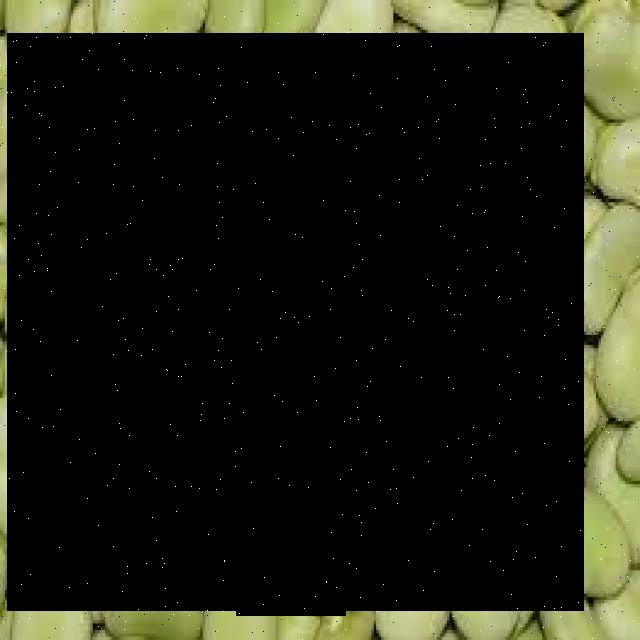Broad_Beans: (8, 34, 584, 612), (53, 138, 169, 297), (362, 382, 485, 503), (313, 259, 436, 379), (99, 50, 229, 161), (336, 59, 432, 208), (236, 499, 346, 616), (217, 193, 331, 305), (210, 333, 282, 500), (58, 352, 191, 442), (427, 46, 510, 190), (213, 68, 310, 178)
